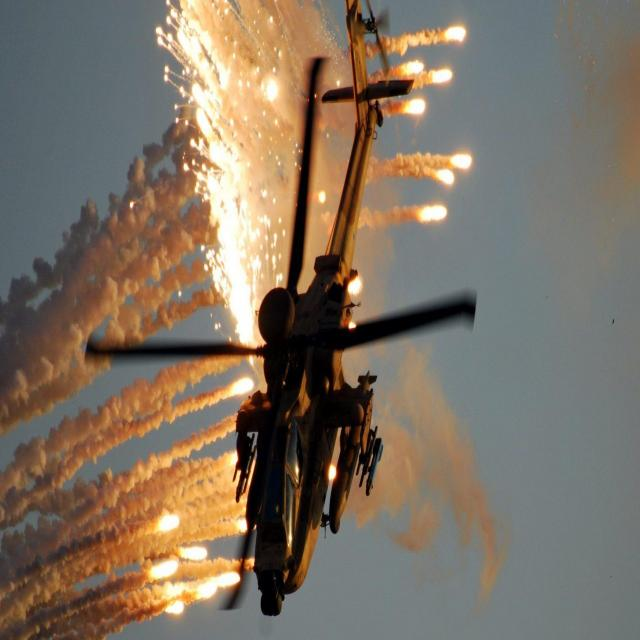MIL_HELO: (62, 0, 490, 623)
